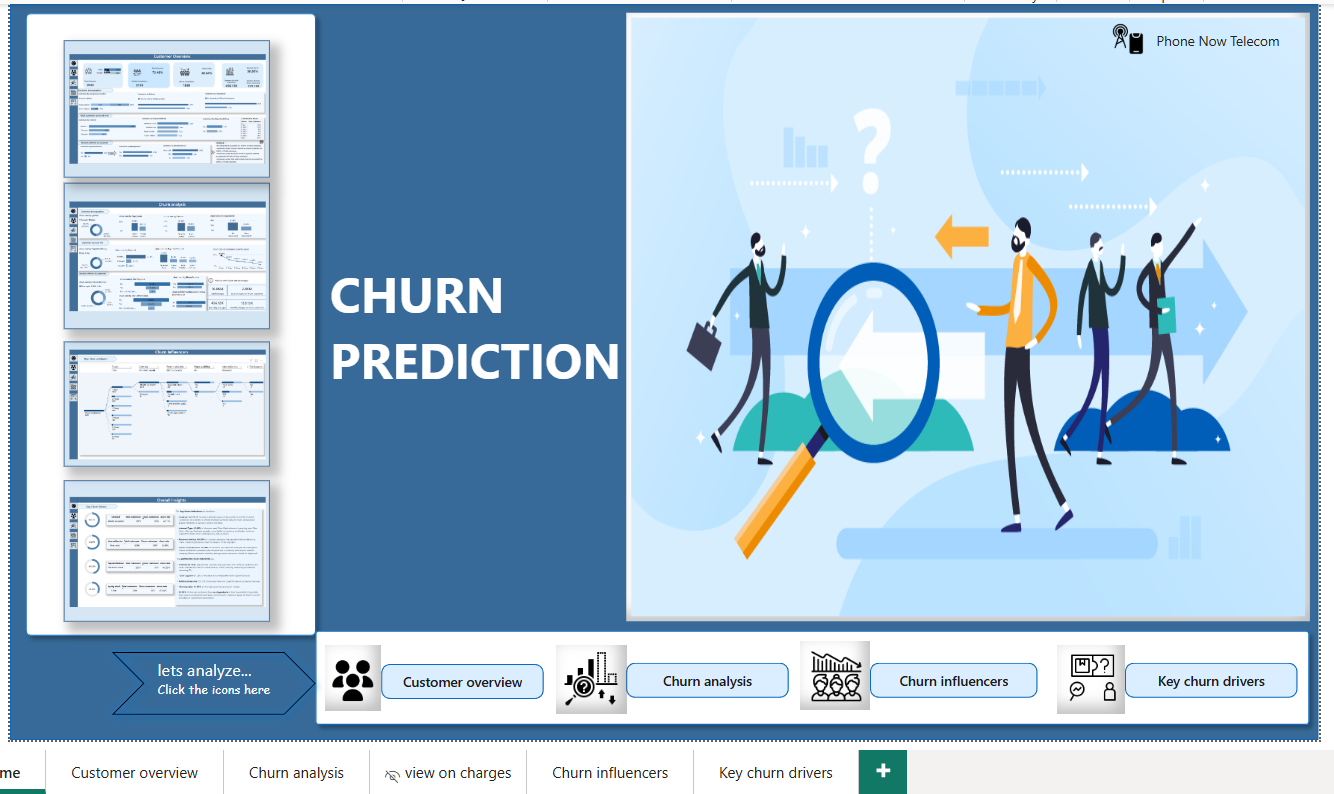

The page's visual inventory and layout, read from the dashboard file:
{"tool":"powerbi","page":{"name":"Home","canvas":[1280,720],"ordinal":0},"visuals":[{"type":"shape","box":[0,0,1279.9,720],"z":0},{"type":"shape","box":[0,0,308,627.1],"z":1},{"type":"shape","box":[289.7,603.9,990.2,116.1],"z":2},{"type":"textbox","box":[308,245.7,304.4,198],"z":3},{"type":"image","box":[602.6,8.6,668.7,595.3],"z":4},{"type":"image","box":[52.6,174.8,201.7,143],"z":6},{"type":"image","box":[52.6,35.4,201.7,134],"z":7},{"type":"image","box":[52.6,330.1,201.7,122.2],"z":8},{"type":"image","box":[52.6,465.7,201.7,138.1],"z":9},{"type":"textbox","box":[139.4,634.4,128.4,57.5],"z":10},{"type":"image","box":[308,636.9,55,50.1],"z":11},{"type":"image","box":[534.2,628.3,68.5,64.8],"z":12},{"type":"image","box":[775,628.3,66,58.7],"z":13},{"type":"image","box":[1026.8,630.8,63.6,56.2],"z":14},{"type":"shape","box":[363.1,645.4,158.9,34.2],"z":15},{"type":"shape","box":[1090.4,644.2,168.7,34.2],"z":16},{"type":"shape","box":[841,644.2,163.8,34.2],"z":17},{"type":"shape","box":[602.6,644.2,158.9,34.2],"z":18},{"type":"shape","box":[308,627.1,55,64.8],"z":19},{"type":"shape","box":[534.2,627.1,68.5,67.2],"z":20},{"type":"shape","box":[772.6,623.4,68.5,67.2],"z":21},{"type":"shape","box":[1024.4,627.1,66,67.2],"z":22},{"type":"textbox","box":[1116.1,22,155.2,37.9],"z":23},{"type":"image","box":[1070.8,8.6,45.2,51.3],"z":24},{"type":"shape","box":[90.5,624.7,217.6,79.5],"z":25}]}

Visuals, with their boxes in screenshot pixels (x1, y1, x2, y2):
shape: 3 0 1319 740
shape: 3 0 320 645
shape: 301 621 1319 740
textbox: 320 253 633 456
image: 623 9 1310 621
image: 58 180 265 327
image: 58 36 265 174
image: 58 339 265 465
image: 58 479 265 621
textbox: 147 652 279 711
image: 320 655 377 706
image: 553 646 623 712
image: 800 646 868 706
image: 1059 648 1124 706
shape: 377 663 540 698
shape: 1124 662 1298 697
shape: 868 662 1036 697
shape: 623 662 786 697
shape: 320 645 377 711
shape: 553 645 623 714
shape: 798 641 868 710
shape: 1056 645 1124 714
textbox: 1151 23 1310 62
image: 1104 9 1150 62
shape: 96 642 320 724
